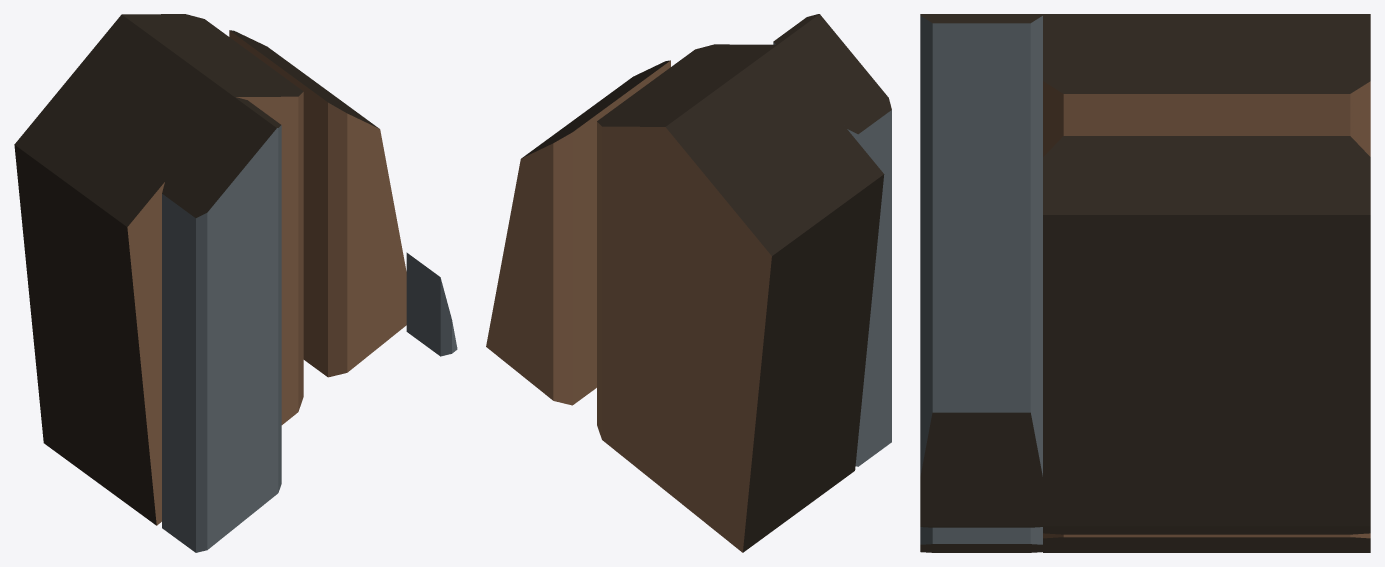
File: SM_DoorShard_02_23.fbx
The picture shows the model from 3 angles, left to right: view 1: azimuth 30°, elevation 25°; view 2: azimuth 150°, elevation 25°; view 3: azimuth 270°, elevation 25°; orthographic projection. The views are drawn at different scales.
Parts seen in each view (by area): view 1: SM_DoorShard_02_23; view 2: SM_DoorShard_02_23; view 3: SM_DoorShard_02_23.
Boxes of the visible parts, box(x1,y1,x2,y2) form: SM_DoorShard_02_23: box(14, 14, 457, 552); SM_DoorShard_02_23: box(486, 14, 891, 552); SM_DoorShard_02_23: box(920, 14, 1370, 552).
Size of the model in its own units: 23.53 by 22 by 32.01.
